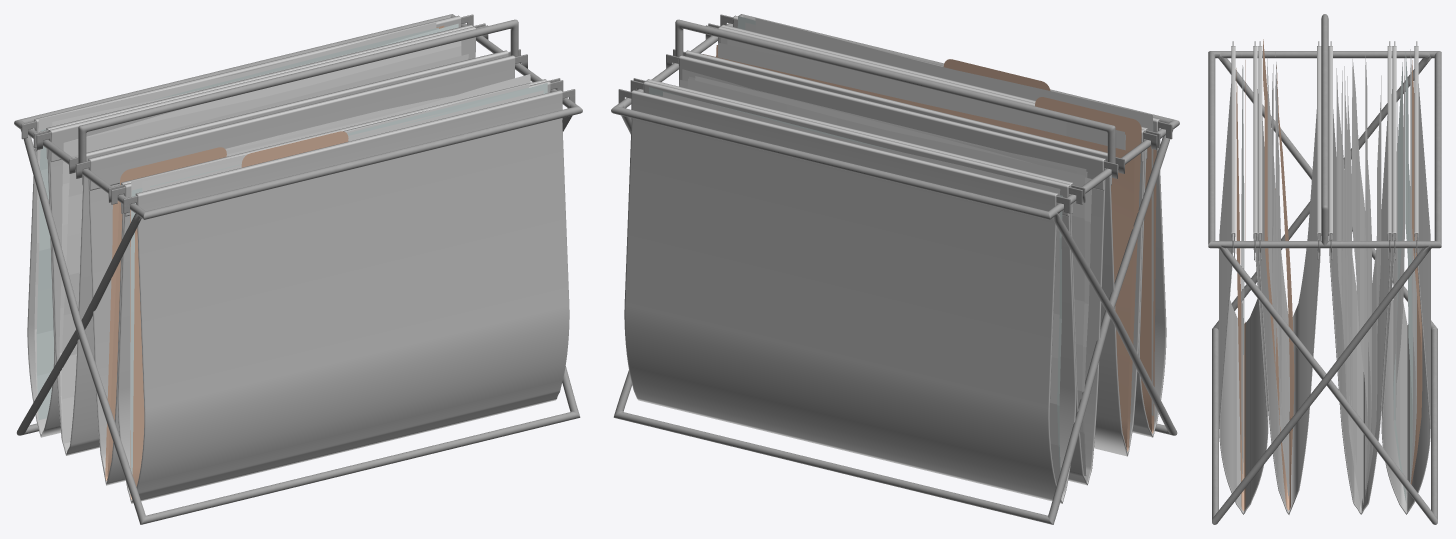
3 renders of one model, left to right at view 1: azimuth 30°, elevation 25°; view 2: azimuth 150°, elevation 25°; view 3: azimuth 270°, elevation 25°, orthographic. The views are drawn at different scales.
Visible parts, largest first — view 1: Office_Decor_Organiser-Paper_01_0_3; view 2: Office_Decor_Organiser-Paper_01_0_3; view 3: Office_Decor_Organiser-Paper_01_0_3.
Boxes of the visible parts, x1,y1,x2,y2 form: Office_Decor_Organiser-Paper_01_0_3: (14, 14, 582, 524); Office_Decor_Organiser-Paper_01_0_3: (611, 14, 1179, 524); Office_Decor_Organiser-Paper_01_0_3: (1208, 14, 1441, 524).
Size of the model in its own units: 0.3293 by 0.2467 by 0.1639.
